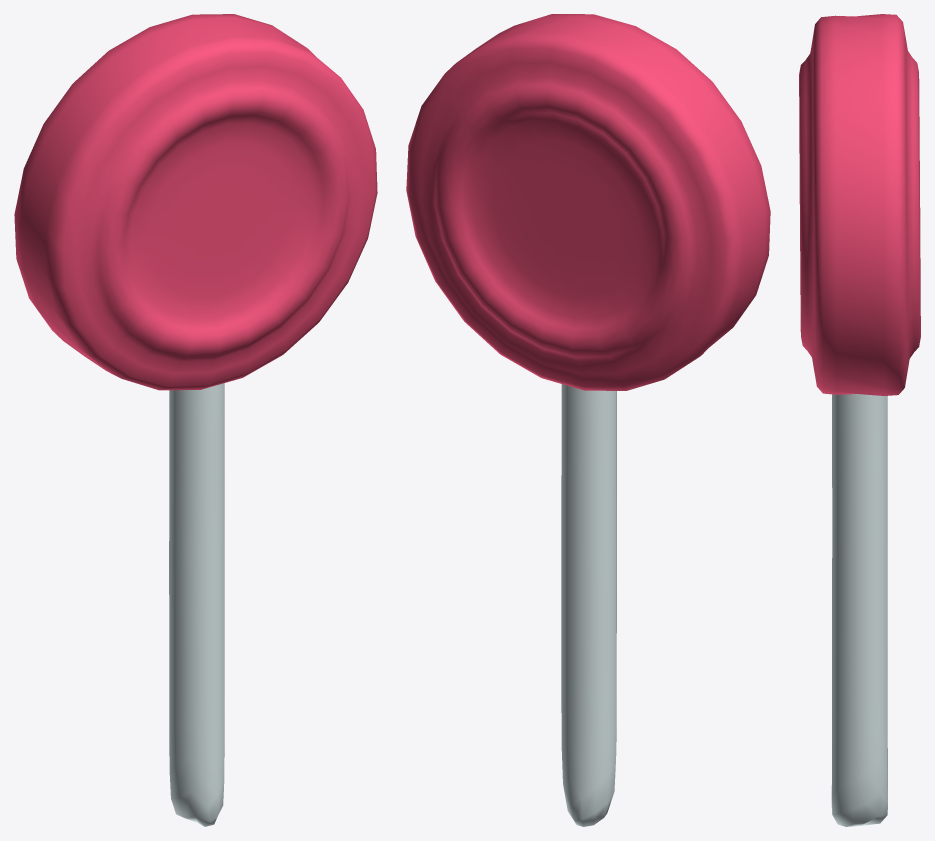
The model's file is Lollipop_B_03.fbx.
3 views of the same model, side by side, from view 1: azimuth 30°, elevation 25°; view 2: azimuth 150°, elevation 25°; view 3: azimuth 270°, elevation 25° (orthographic).
Visible parts, largest first — view 1: Lollipop_B_03_LOD0; view 2: Lollipop_B_03_LOD0; view 3: Lollipop_B_03_LOD0.
Boxes of the visible parts, x1,y1,x2,y2 form: Lollipop_B_03_LOD0: [14, 14, 377, 826]; Lollipop_B_03_LOD0: [406, 14, 770, 826]; Lollipop_B_03_LOD0: [799, 14, 920, 826].
Size of what is drawn, in the model's own units: 503 by 1154 by 160.
